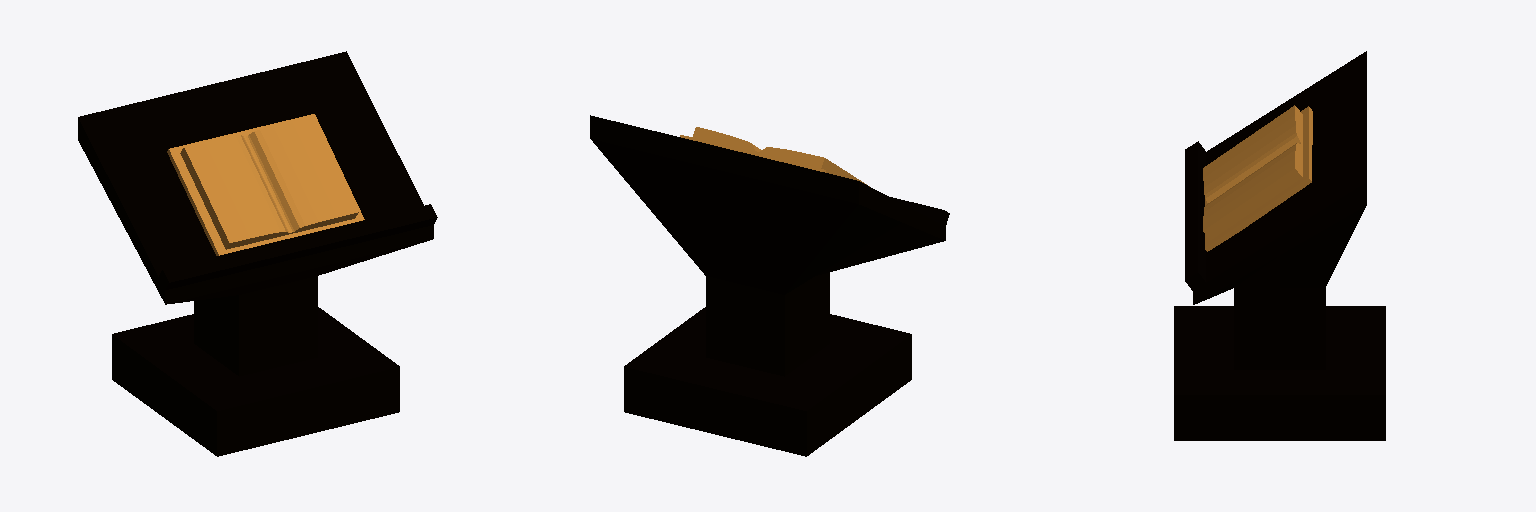
The model's file is podium_special.obj.
3 renders of one model, left to right at view 1: azimuth 30°, elevation 25°; view 2: azimuth 150°, elevation 25°; view 3: azimuth 270°, elevation 25°, orthographic.
Visible parts, largest first — view 1: Stand, Boook; view 2: Stand, Boook; view 3: Stand, Boook.
Part boxes in pixels (x1,y1,x2,y2): Stand: (78,51,437,456); Boook: (167,114,364,255); Stand: (590,115,949,456); Boook: (680,127,869,186); Stand: (1174,51,1385,440); Boook: (1203,105,1312,251).
Bounding box in the file's own units: 1.58 × 1.57 × 1.08.